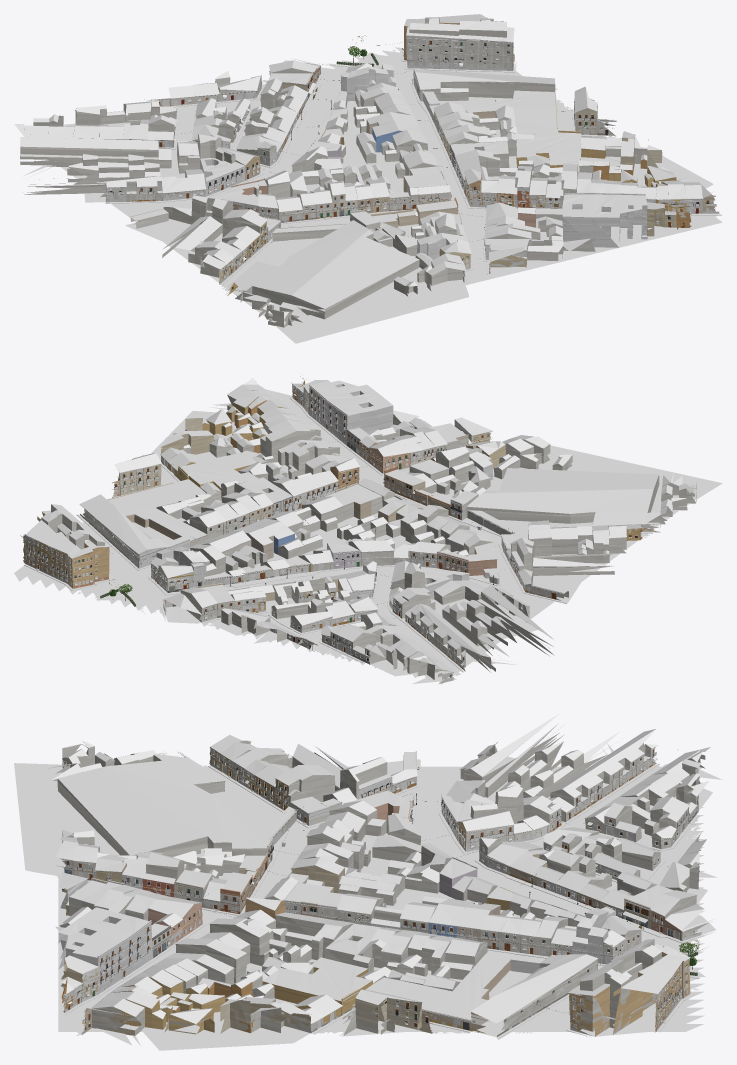
File: zona_-1_0.glb
3 renders of one model, top to bottom at view 1: azimuth 30°, elevation 25°; view 2: azimuth 150°, elevation 25°; view 3: azimuth 270°, elevation 25°, orthographic. The views are drawn at different scales.
Visible parts, largest first — view 1: z_tejados_-1_0, z_casas_-1_0, z_calle_-1_0, z_casas_planas_-1_0, z_fachadas_-1_0, z_suelo_-1_0; view 2: z_tejados_-1_0, z_casas_-1_0, z_casas_planas_-1_0, z_calle_-1_0, z_fachadas_-1_0, z_suelo_-1_0; view 3: z_tejados_-1_0, z_casas_-1_0, z_calle_-1_0, z_casas_planas_-1_0, z_fachadas_-1_0, z_suelo_-1_0.
Boxes of the visible parts, bbox=[...] form: z_tejados_-1_0: bbox=[14, 14, 711, 319]; z_casas_-1_0: bbox=[20, 14, 715, 327]; z_calle_-1_0: bbox=[22, 47, 722, 343]; z_casas_planas_-1_0: bbox=[20, 72, 654, 264]; z_fachadas_-1_0: bbox=[106, 17, 719, 295]; z_suelo_-1_0: bbox=[99, 45, 717, 290]; z_tejados_-1_0: bbox=[25, 378, 696, 673]; z_casas_-1_0: bbox=[23, 376, 696, 683]; z_casas_planas_-1_0: bbox=[108, 380, 568, 671]; z_calle_-1_0: bbox=[14, 389, 722, 684]; z_fachadas_-1_0: bbox=[20, 384, 659, 676]; z_suelo_-1_0: bbox=[70, 396, 649, 676]; z_tejados_-1_0: bbox=[46, 714, 715, 1024]; z_casas_-1_0: bbox=[52, 733, 707, 1036]; z_calle_-1_0: bbox=[14, 743, 722, 1050]; z_casas_planas_-1_0: bbox=[58, 723, 673, 1035]; z_fachadas_-1_0: bbox=[59, 747, 711, 1036]; z_suelo_-1_0: bbox=[59, 764, 700, 1033].
Bounding box in the file's own units: 238 × 18.4 × 224.
